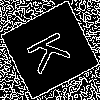K: (25, 25, 80, 76)
